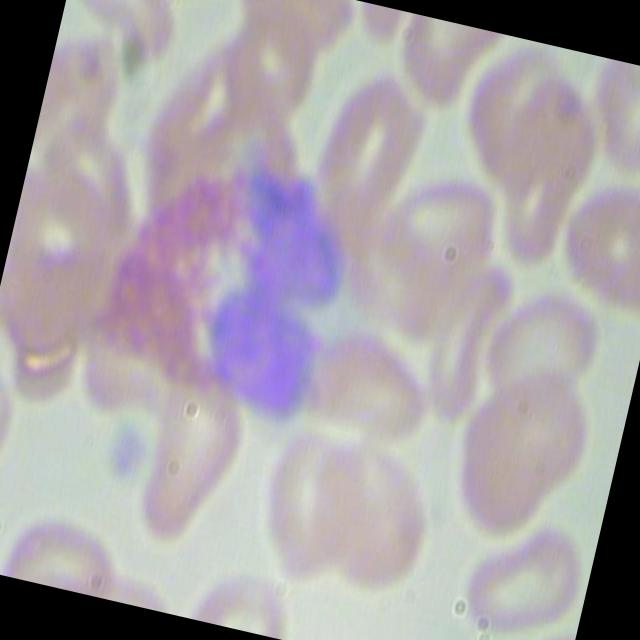Platelets: (100, 418, 153, 487)
RBC: (436, 345, 607, 556), (118, 364, 268, 555), (307, 430, 453, 604), (238, 417, 384, 591), (0, 152, 124, 351), (304, 58, 438, 224), (486, 95, 601, 284), (448, 32, 576, 196), (476, 271, 615, 417), (306, 304, 448, 444), (415, 252, 520, 436), (377, 152, 509, 290), (454, 512, 595, 640), (0, 495, 134, 600), (217, 0, 327, 123), (548, 169, 640, 311), (579, 57, 640, 177)
WBC: (85, 125, 368, 438)
